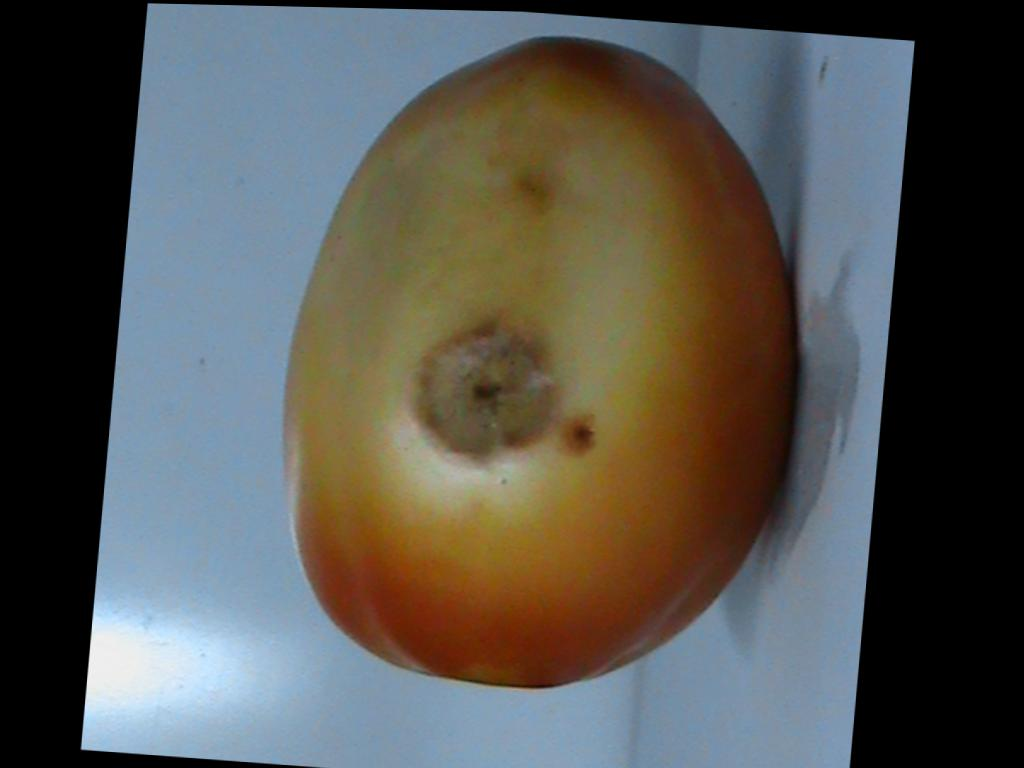bruise_discoloration: (281, 60, 683, 584)
rot_mold_decay: (414, 316, 592, 463), (513, 170, 548, 209)
tomato: (286, 37, 793, 686)
